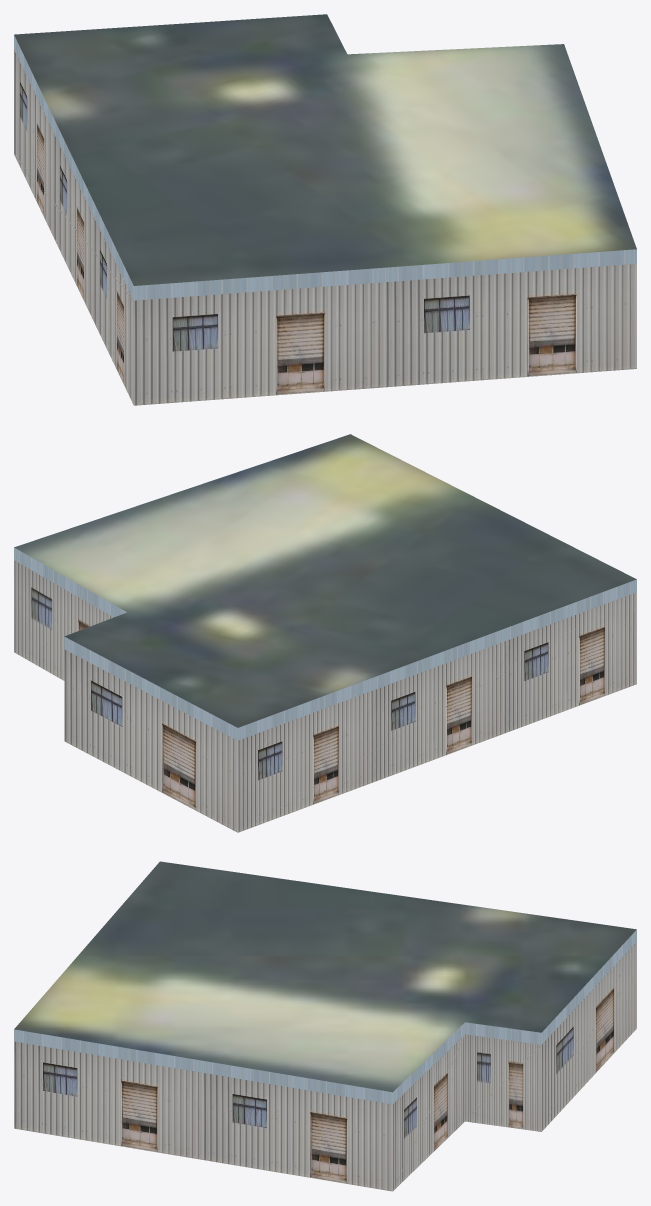
3 views of the same model, one above another, from view 1: azimuth 30°, elevation 25°; view 2: azimuth 150°, elevation 25°; view 3: azimuth 270°, elevation 25° (orthographic). The views are drawn at different scales.
Visible parts, largest first — view 1: SketchUp (×3); view 2: SketchUp (×3); view 3: SketchUp (×3).
Part boxes in pixels (x1=…): SketchUp (×3): x1=14, y1=14, x2=636, y2=405; SketchUp (×3): x1=14, y1=434, x2=636, y2=832; SketchUp (×3): x1=14, y1=861, x2=636, y2=1191.
Bounding box in the file's own units: 738 × 842 × 148.
Materials: 3 (3 with a texture image).
